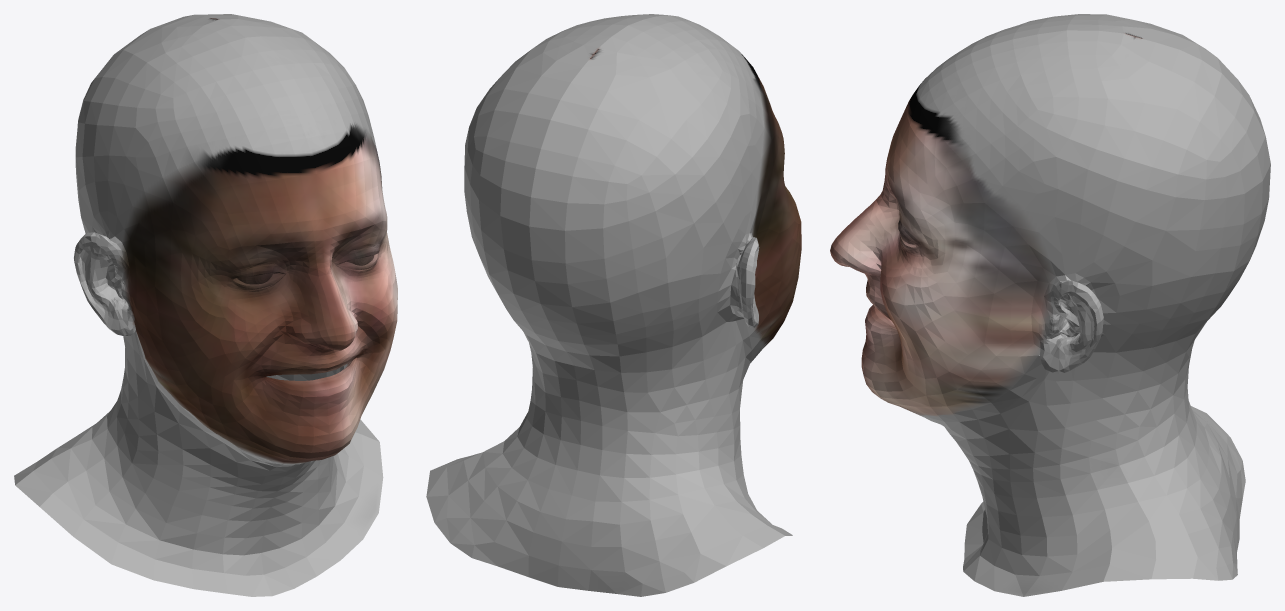
File: sample_2.obj
3 views of the same model, side by side, from view 1: azimuth 30°, elevation 25°; view 2: azimuth 150°, elevation 25°; view 3: azimuth 270°, elevation 25° (orthographic). The views are drawn at different scales.
Size of the model in its own units: 0.2164 by 0.3164 by 0.2341.
1 material, 1 textured.
